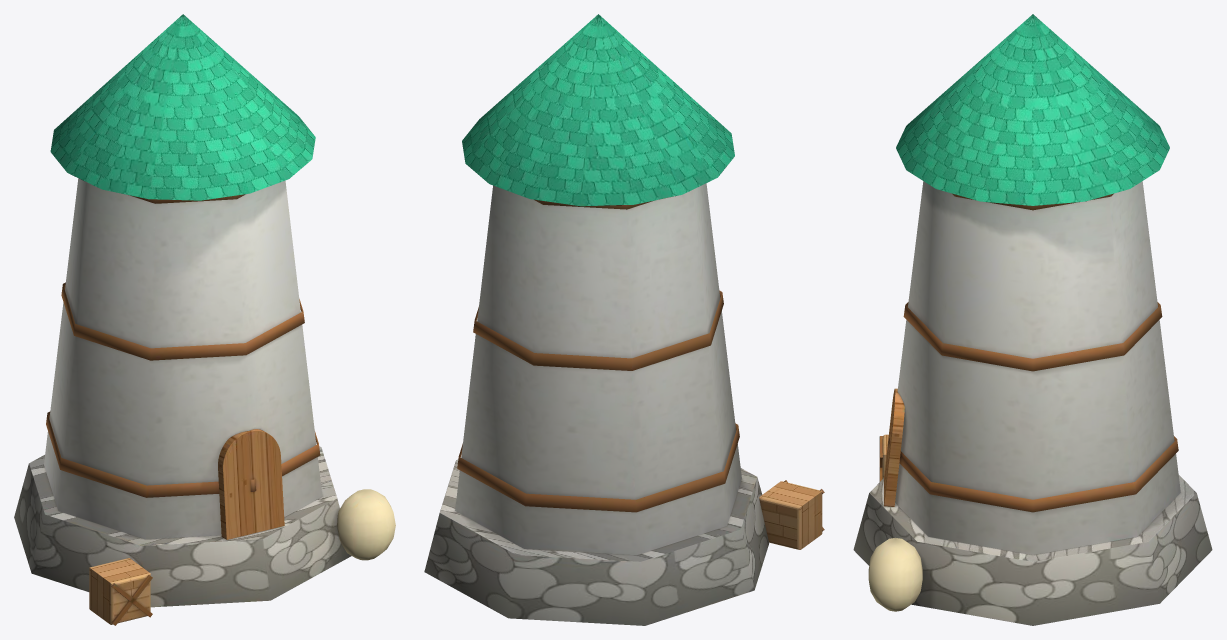
The model's file is windmill.glb.
The picture shows the model from 3 angles, left to right: view 1: azimuth 30°, elevation 25°; view 2: azimuth 150°, elevation 25°; view 3: azimuth 270°, elevation 25°; orthographic projection. The views are drawn at different scales.
Visible parts, largest first — view 1: Mesh_0; view 2: Mesh_0; view 3: Mesh_0.
Part boxes in pixels (<box>): Mesh_0: <box>14,14,395,625</box>; Mesh_0: <box>424,14,824,625</box>; Mesh_0: <box>853,14,1212,625</box>.
Size of the model in its own units: 6.8 by 11.22 by 6.8.
1 material, 1 textured.
